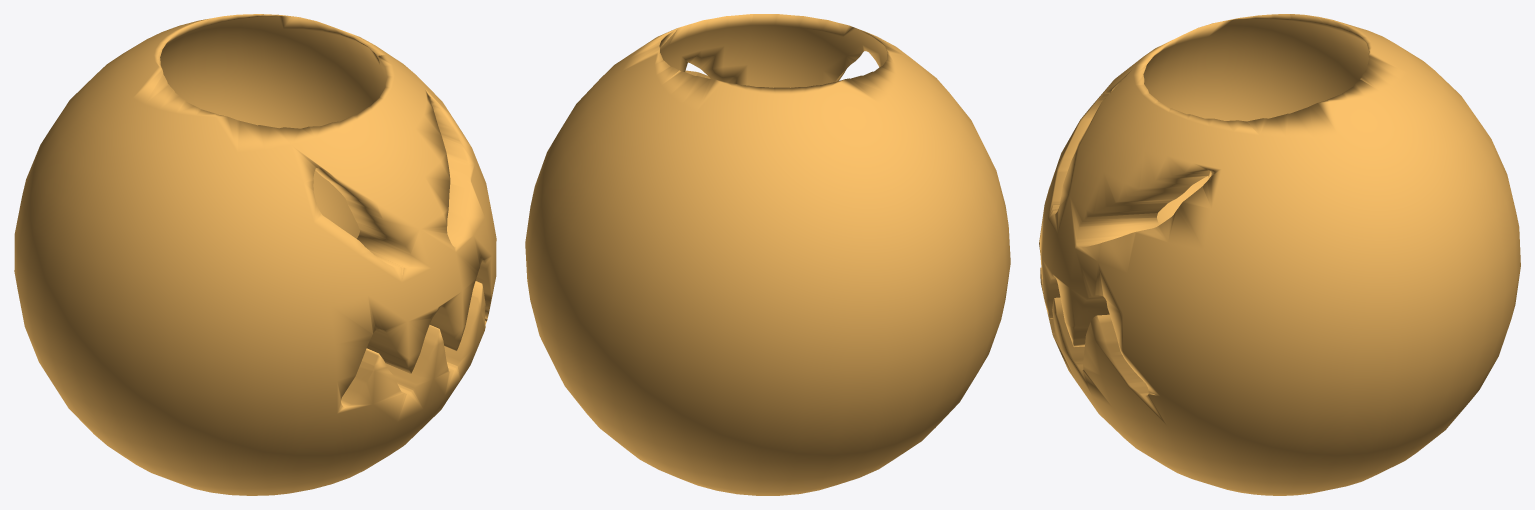
The picture shows the model from 3 angles, left to right: view 1: azimuth 30°, elevation 25°; view 2: azimuth 150°, elevation 25°; view 3: azimuth 270°, elevation 25°; orthographic projection.
Visible parts, largest first — view 1: obj_0.009_obj_0.010; view 2: obj_0.009_obj_0.010; view 3: obj_0.009_obj_0.010.
Part boxes in pixels (x1,y1,x2,y2): obj_0.009_obj_0.010: (14, 14, 496, 495); obj_0.009_obj_0.010: (525, 14, 1010, 495); obj_0.009_obj_0.010: (1039, 14, 1520, 495).
Bounding box in the file's own units: 0.0427 × 0.0412 × 0.0428.
